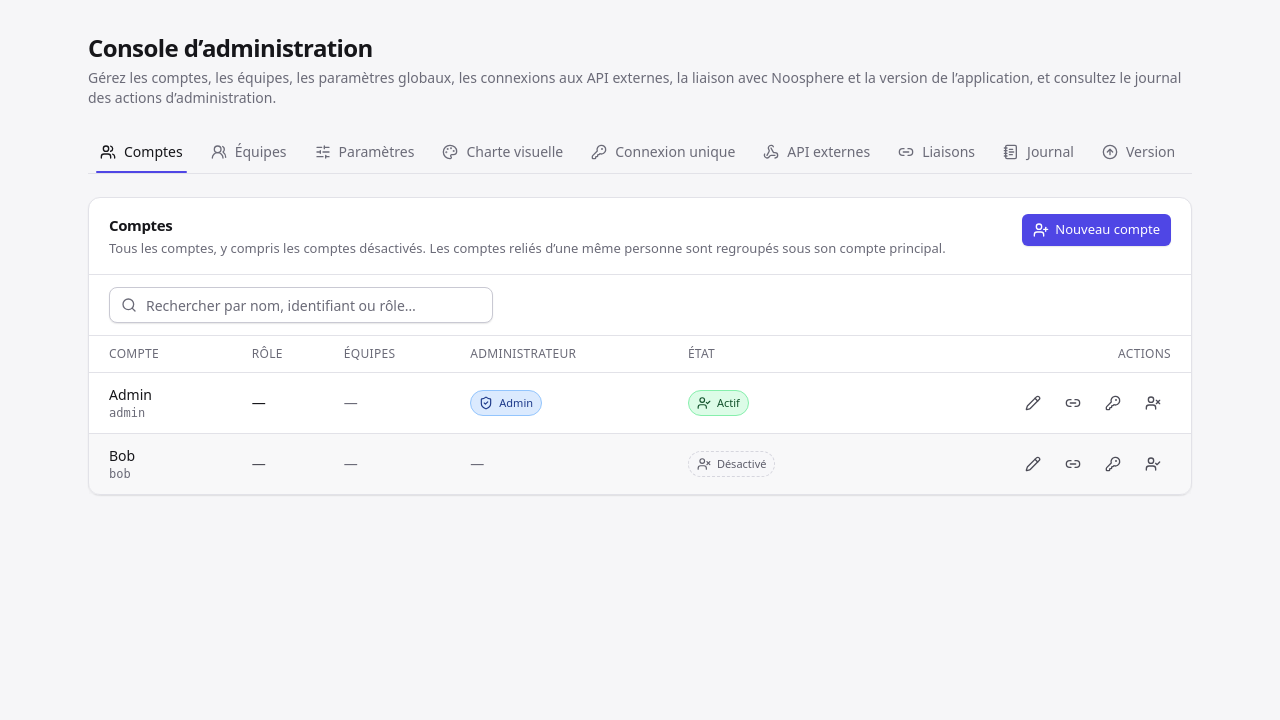
Test: Console d’administration › affiche l’erreur du serveur dans le dialogue de création
This screenshot has width=1280, height=720.
Check: the text "Bob" is shown, box [109,446,135,466]
Click the button "Nouveau compte" at [1097, 230], box [1022,214,1171,246]
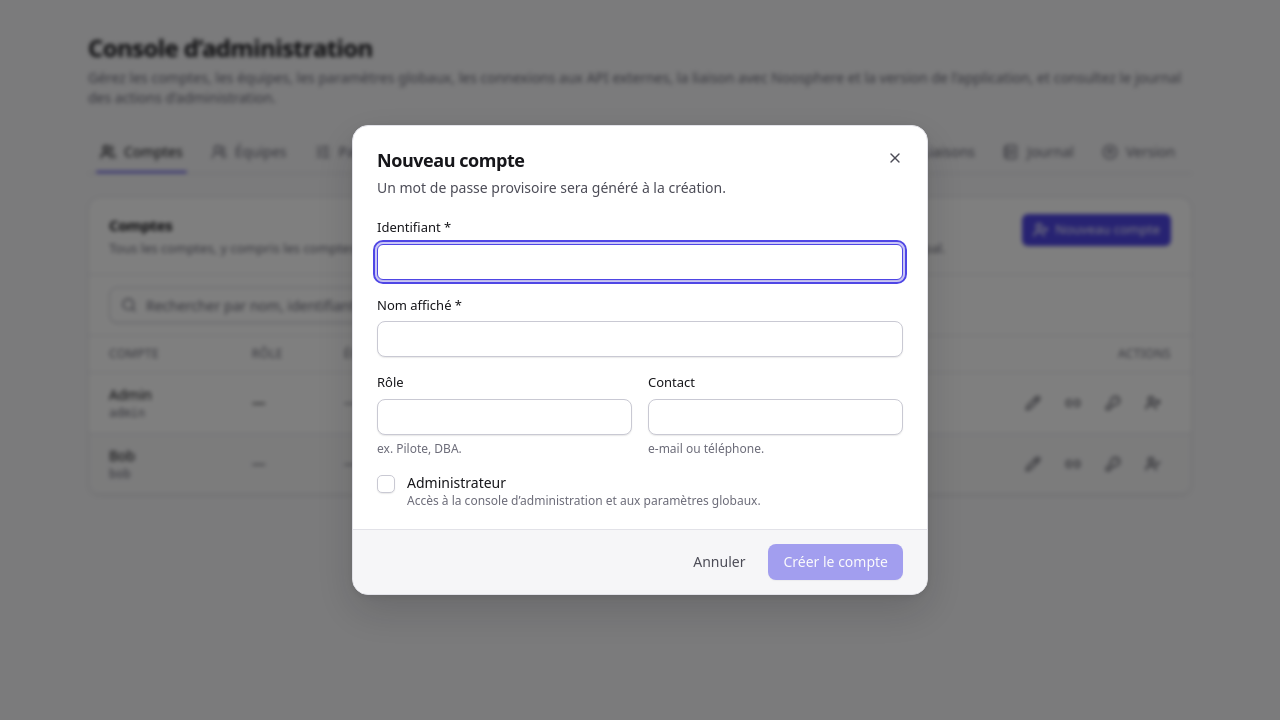
Type "bob" into the field labelled "Identifiant *" at [640, 262], box [377,244,903,280]
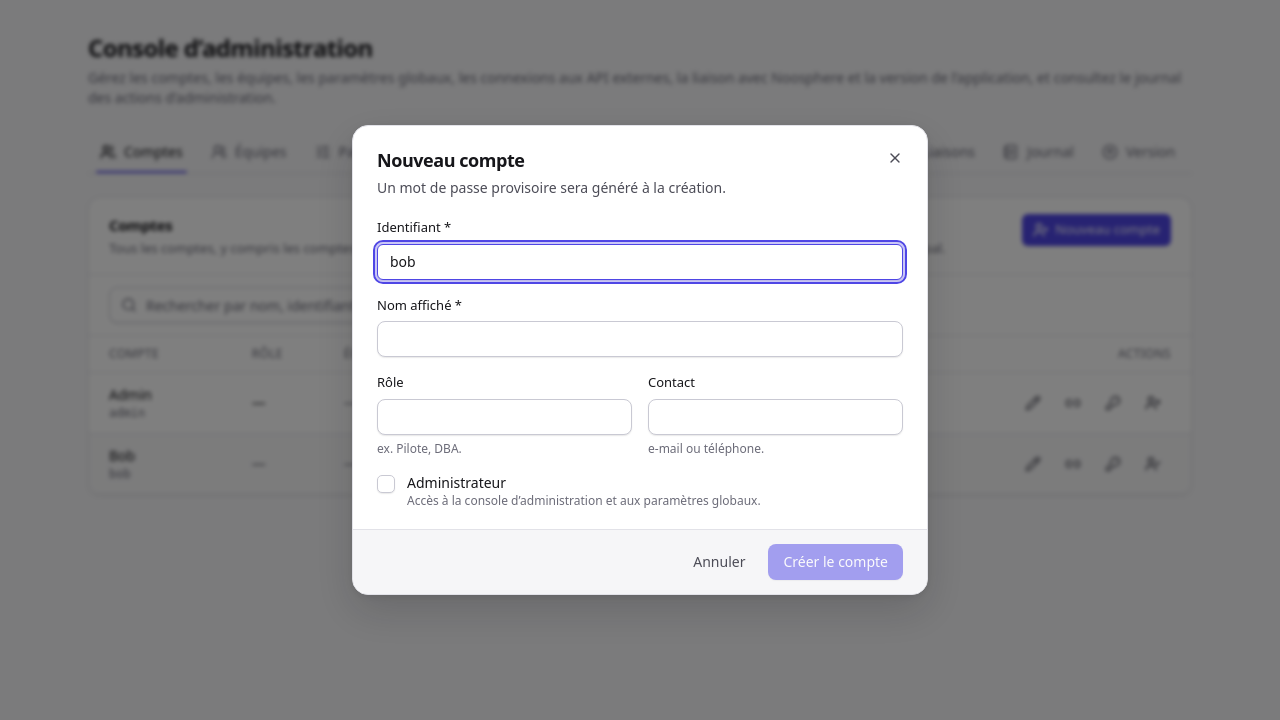
Type "Bob 2" into the field labelled "Nom affiché *" at [640, 339], box [377,321,903,357]
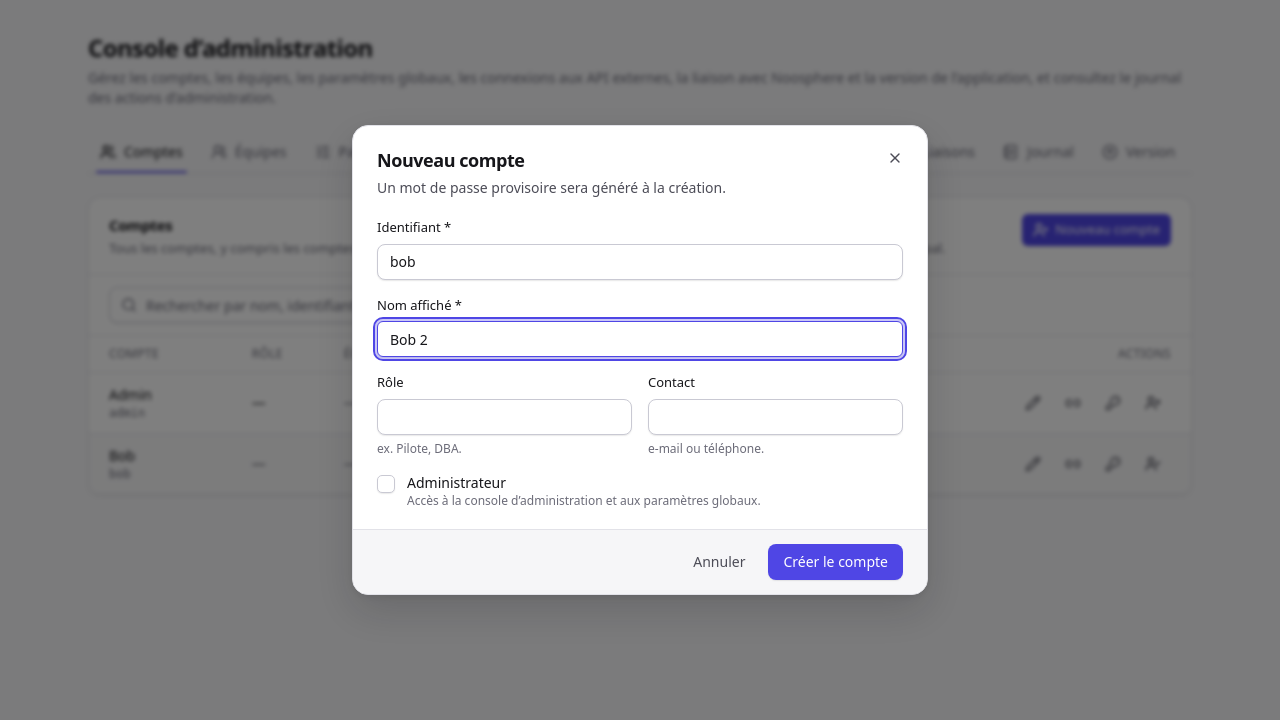
Click the button "Créer le compte" at [836, 562], box [768,544,903,580]
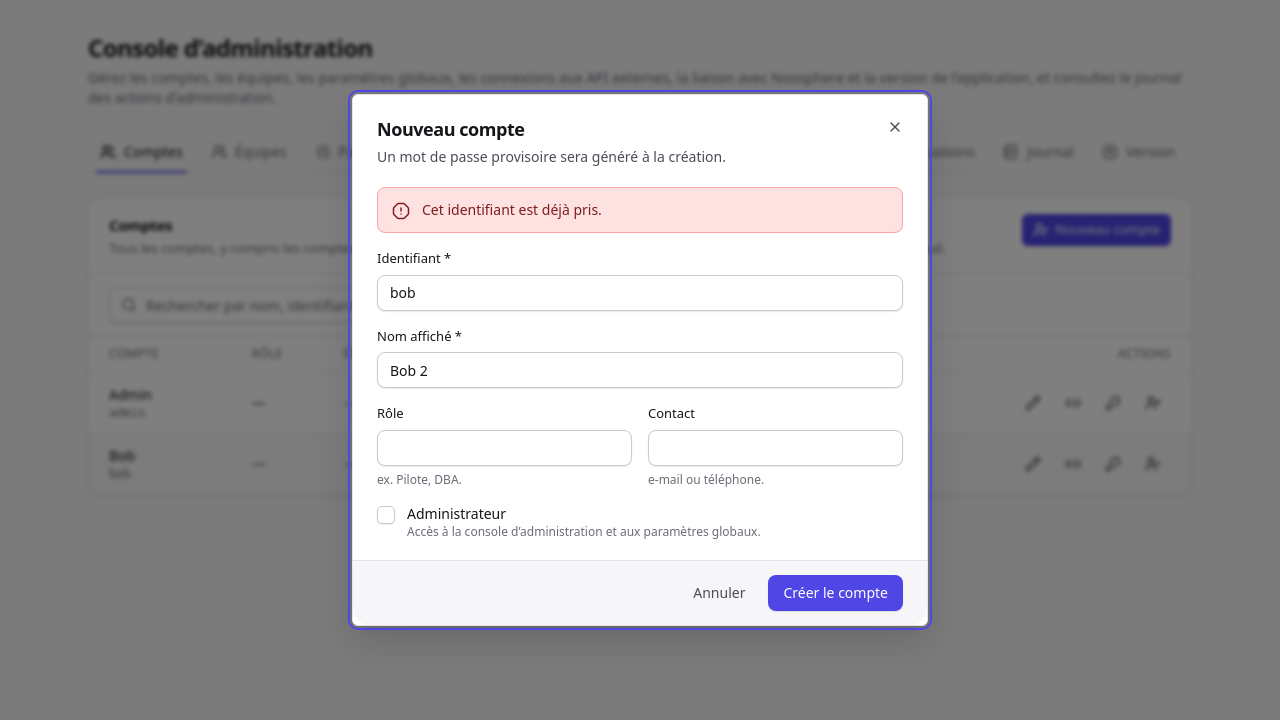
Check: the text "Cet identifiant est déjà pris." is shown, box [422,200,602,219]
